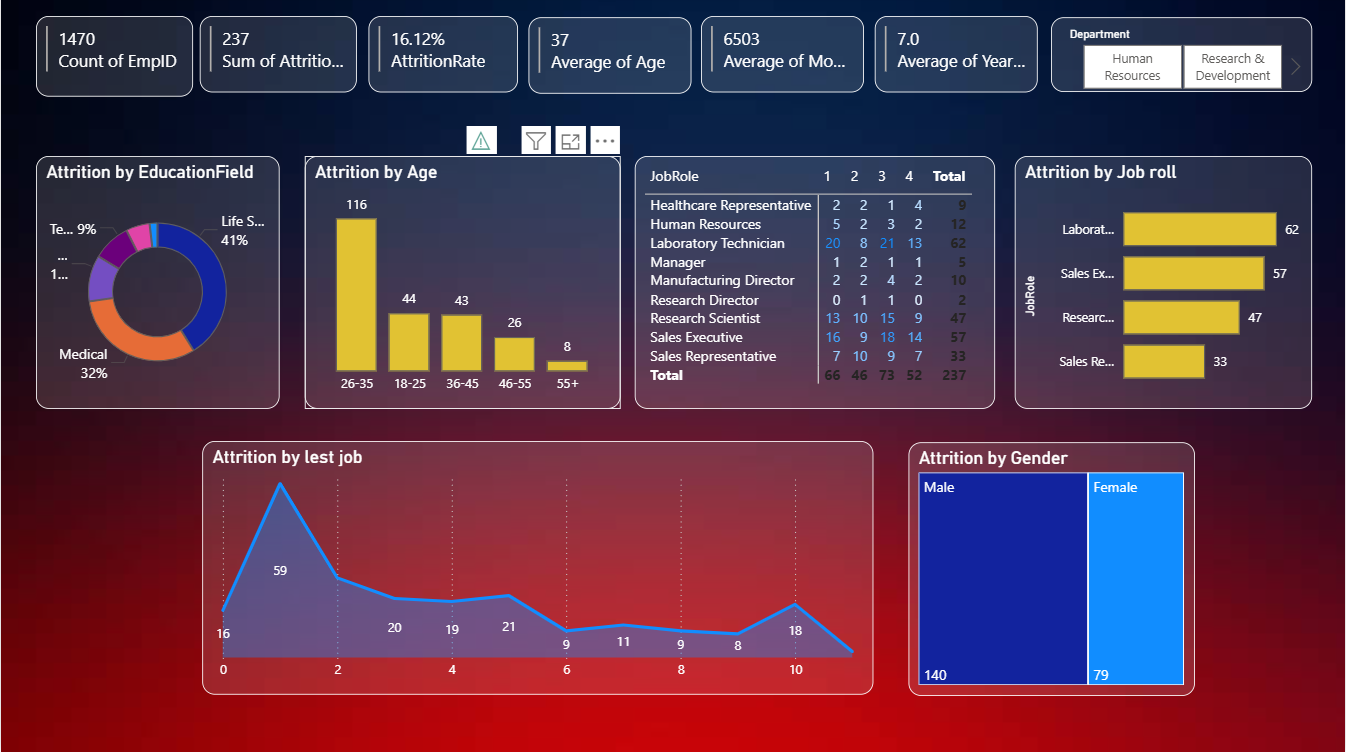

Layout of this report page (visuals, bound fields, positions):
{"tool":"powerbi","page":{"name":"Page 1","canvas":[1280,720],"ordinal":0},"visuals":[{"type":"multiRowCard","fields":{"Values":["HR_Analytics.EmpID"]},"box":[32.9,19.2,149.6,76.8],"z":0},{"type":"multiRowCard","fields":{"Values":["HR_Analytics.AttritionRate"]},"box":[349.9,19.2,142.7,72.7],"z":1000},{"type":"multiRowCard","fields":{"Values":["Sum(HR_Analytics.AttritionCount)"]},"box":[189.4,19.2,149.6,72.7],"z":2000},{"type":"multiRowCard","fields":{"Values":["Avg(HR_Analytics.Age)"]},"box":[502.2,20.6,155.1,72.7],"z":3000},{"type":"multiRowCard","fields":{"Values":["Avg(HR_Analytics.MonthlyIncome)"]},"box":[666.9,19.2,155.1,72.7],"z":4000},{"type":"multiRowCard","fields":{"Values":["Avg(HR_Analytics.YearsAtCompany)"]},"box":[831.6,19.2,155.1,72.7],"z":5000},{"type":"donutChart","title":" Attrition by EducationField","fields":{"Category":["HR_Analytics.EducationField"],"Y":["CountNonNull(HR_Analytics.Attrition)"]},"box":[33.3,152.4,232.1,240.5],"z":6000},{"type":"columnChart","title":" Attrition by Age","fields":{"Category":["HR_Analytics.AgeGroup"],"Y":["Sum(HR_Analytics.AttritionCount)"]},"box":[289.3,152.4,301.2,240.5],"z":7000},{"type":"pivotTable","fields":{"Rows":["HR_Analytics.JobRole"],"Columns":["HR_Analytics.JobSatisfaction"],"Values":["Sum(HR_Analytics.AttritionCount)"]},"box":[603.6,152.4,342.9,240.5],"z":8000},{"type":"clusteredBarChart","title":" Attrition by Job roll","fields":{"Category":["HR_Analytics.JobRole"],"Y":["Sum(HR_Analytics.AttritionCount)"]},"box":[965.5,152.4,283.3,240.5],"z":9000},{"type":"stackedAreaChart","title":" Attrition by lest job","fields":{"Category":["HR_Analytics.YearsAtCompany"],"Y":["Sum(HR_Analytics.AttritionCount)"]},"box":[192.1,424,639.5,241.5],"z":10000},{"type":"treemap","title":" Attrition by Gender","fields":{"Group":["HR_Analytics.Gender"],"Values":["Sum(HR_Analytics.AttritionCount)"]},"box":[864.3,425,272.6,241.7],"z":11000},{"type":"slicer","fields":{"Values":["HR_Analytics.Department"]},"box":[1000,20.2,248.8,71.4],"z":12000}]}

Visuals, with their boxes in screenshot pixels (x1, y1, x2, y2), scaled from the page's 1280x720 canvas onto the 1346x752 screenshot:
multiRowCard - HR_Analytics.EmpID: detection(35, 20, 192, 100)
multiRowCard - HR_Analytics.AttritionRate: detection(368, 20, 518, 96)
multiRowCard - Sum(HR_Analytics.AttritionCount): detection(199, 20, 356, 96)
multiRowCard - Avg(HR_Analytics.Age): detection(528, 22, 691, 97)
multiRowCard - Avg(HR_Analytics.MonthlyIncome): detection(701, 20, 864, 96)
multiRowCard - Avg(HR_Analytics.YearsAtCompany): detection(874, 20, 1038, 96)
" Attrition by EducationField" donutChart: detection(35, 159, 279, 410)
" Attrition by Age" columnChart: detection(304, 159, 621, 410)
pivotTable - HR_Analytics.JobRole x HR_Analytics.JobSatisfaction: detection(635, 159, 995, 410)
" Attrition by Job roll" clusteredBarChart: detection(1015, 159, 1313, 410)
" Attrition by lest job" stackedAreaChart: detection(202, 443, 874, 695)
" Attrition by Gender" treemap: detection(909, 444, 1196, 696)
slicer - HR_Analytics.Department: detection(1052, 21, 1313, 96)
